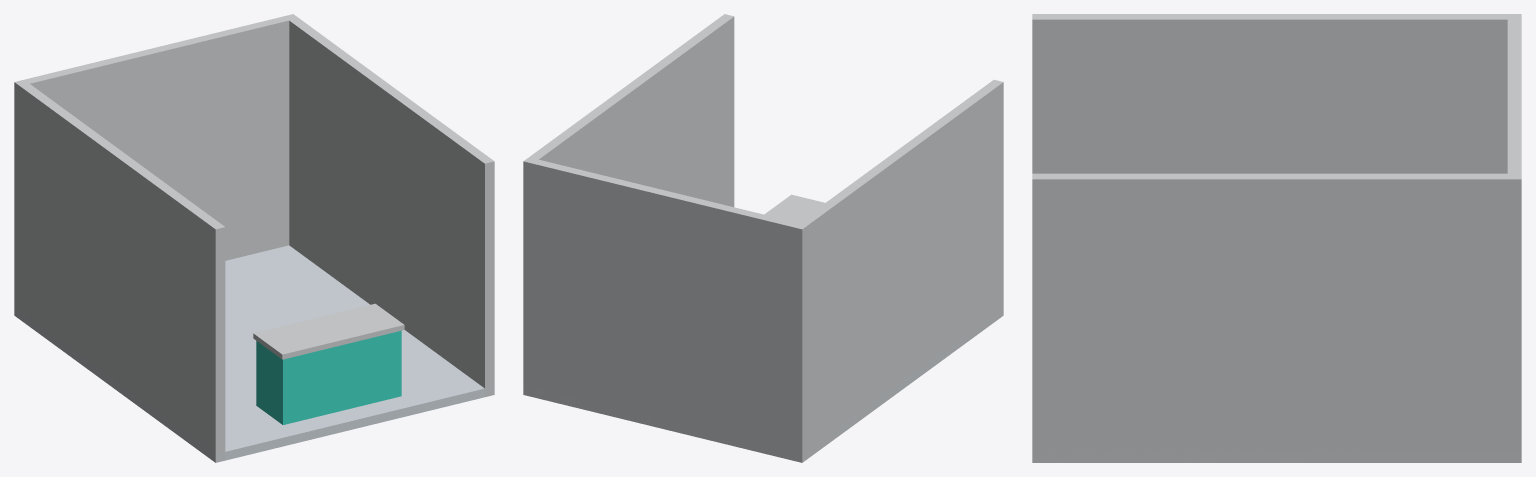
3 views of the same model, side by side, from view 1: azimuth 30°, elevation 25°; view 2: azimuth 150°, elevation 25°; view 3: azimuth 270°, elevation 25° (orthographic). The views are drawn at different scales.
Parts seen in each view (by area): view 1: Exhibition Booth Concept; view 2: Exhibition Booth Concept; view 3: Exhibition Booth Concept.
Boxes of the visible parts, <box> form: Exhibition Booth Concept: <box>14,14,494,462</box>; Exhibition Booth Concept: <box>523,14,1003,462</box>; Exhibition Booth Concept: <box>1032,14,1521,462</box>.
Bounding box in the file's own units: 4 × 3.2 × 5.
